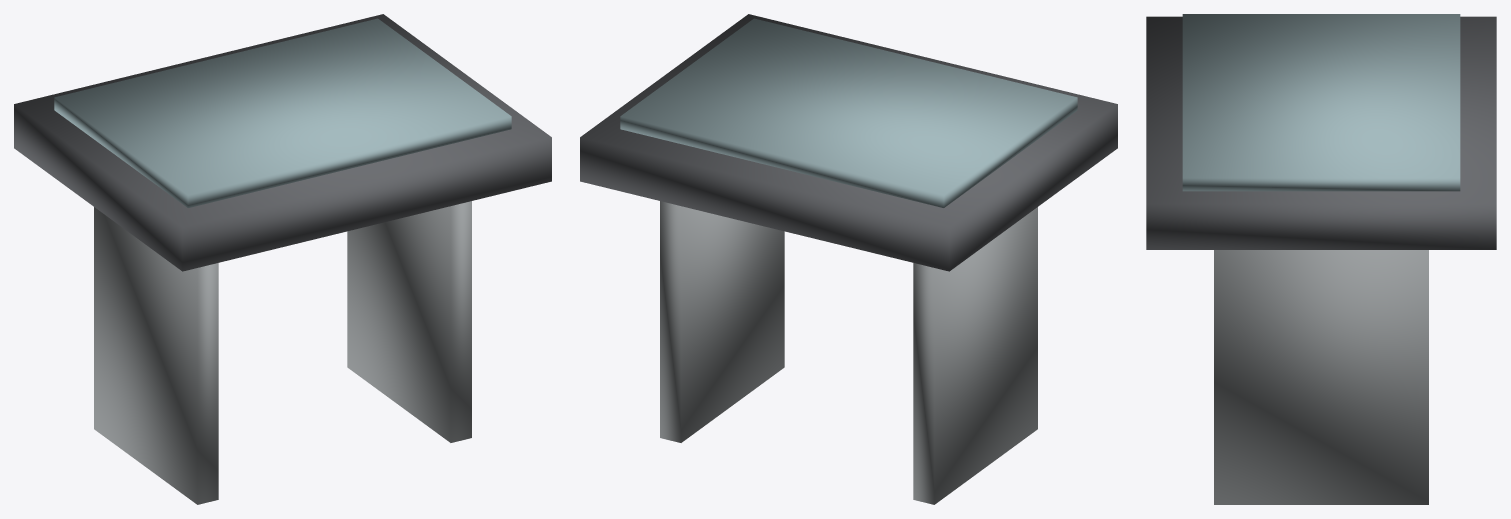
File: light_table__deep.glb
The picture shows the model from 3 angles, left to right: view 1: azimuth 30°, elevation 25°; view 2: azimuth 150°, elevation 25°; view 3: azimuth 270°, elevation 25°; orthographic projection. The views are drawn at different scales.
Visible parts, largest first — view 1: world; view 2: world; view 3: world.
Part boxes in pixels (x1,y1,x2,y2): world: [14, 14, 551, 504]; world: [580, 14, 1117, 504]; world: [1146, 14, 1496, 504].
Bounding box in the file's own units: 1.05 × 0.8875 × 0.8296.
